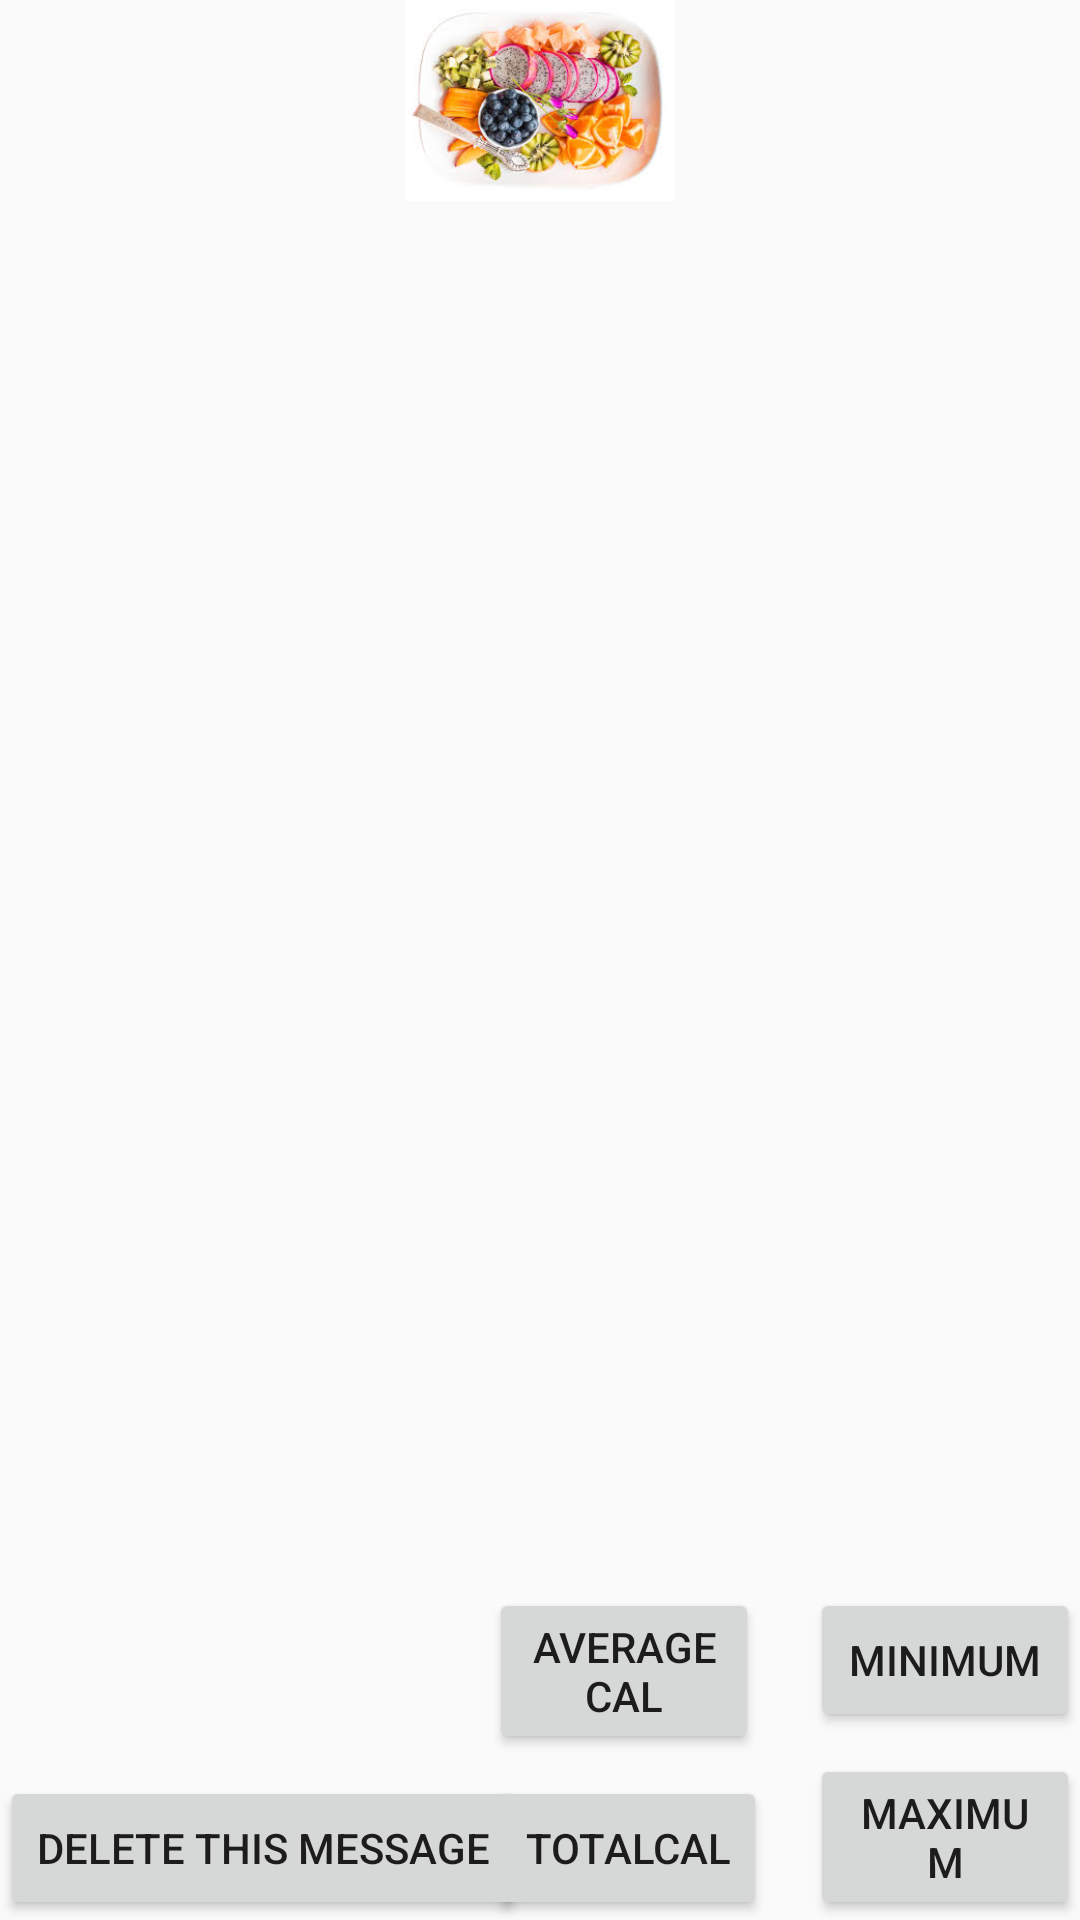

Locate icon controls on the screen. Image size 1080*1920, boxes as region(x1, y1, x2, y2).
food nutrition: region(413, 17, 662, 183)
